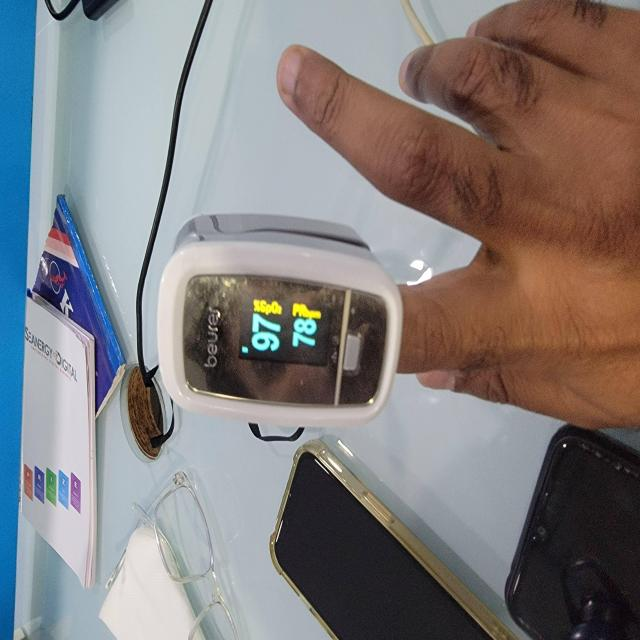spo2: (157, 214, 401, 429)
